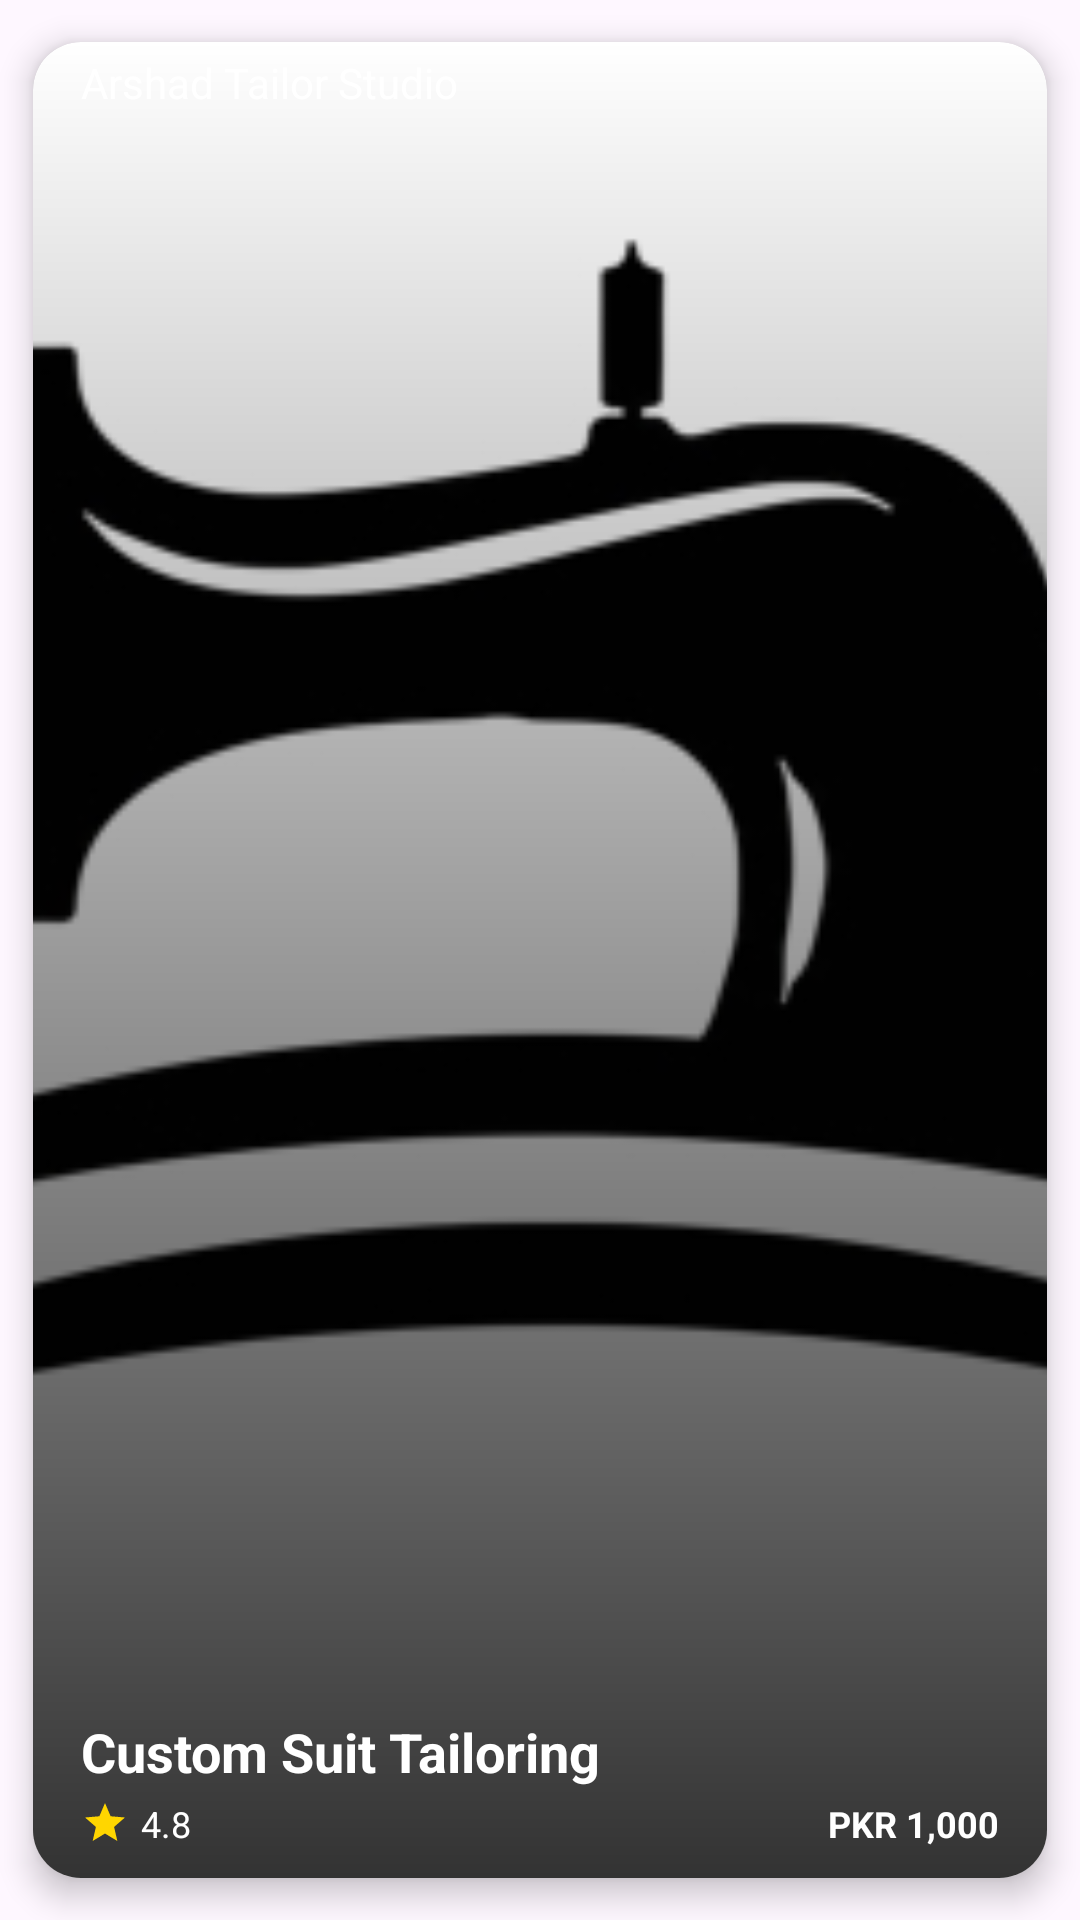

Locate icon controls on the screen. Image size 1080px×1920px, boxes as (x1, y1, x2, y2).
star: (85, 1803, 125, 1841)
